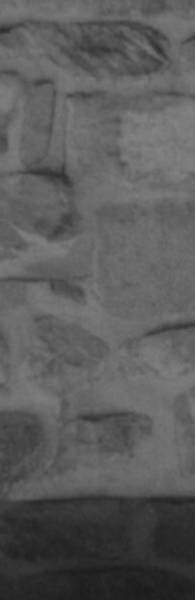water: (0, 498, 195, 600)
